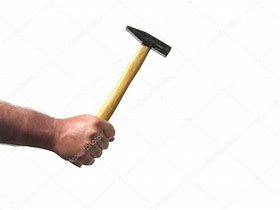hammer: (66, 24, 173, 168)
